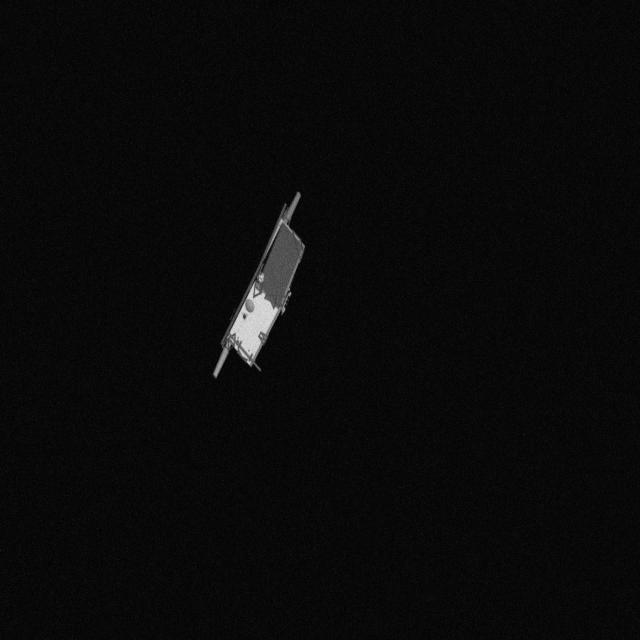medium_debris: (212, 188, 320, 388)
